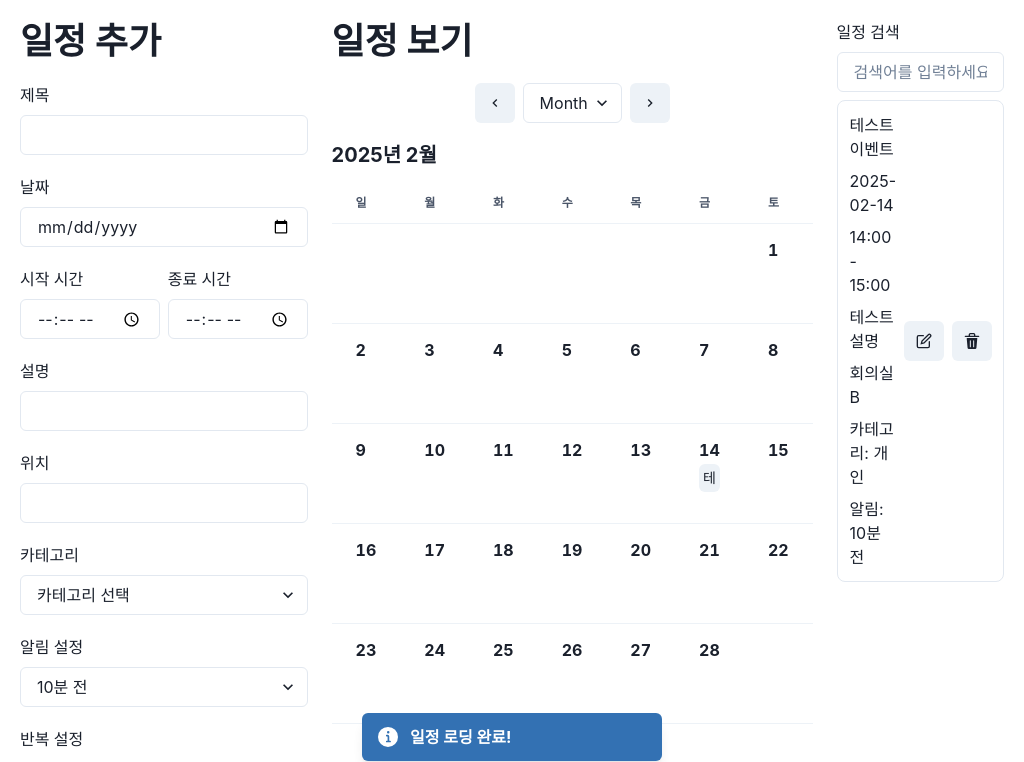
Test: 일정 CRUD 및 기본 기능 › 일정을 삭제하고 더 이상 조회되지 않는지 확인한다
Check: the element with test id "event-item-1" is shown, box [837,100,1004,582]
일정 삭제 버튼 클릭
Click the button named "Delete event".
click(972, 341)  # box [952,321,992,361]
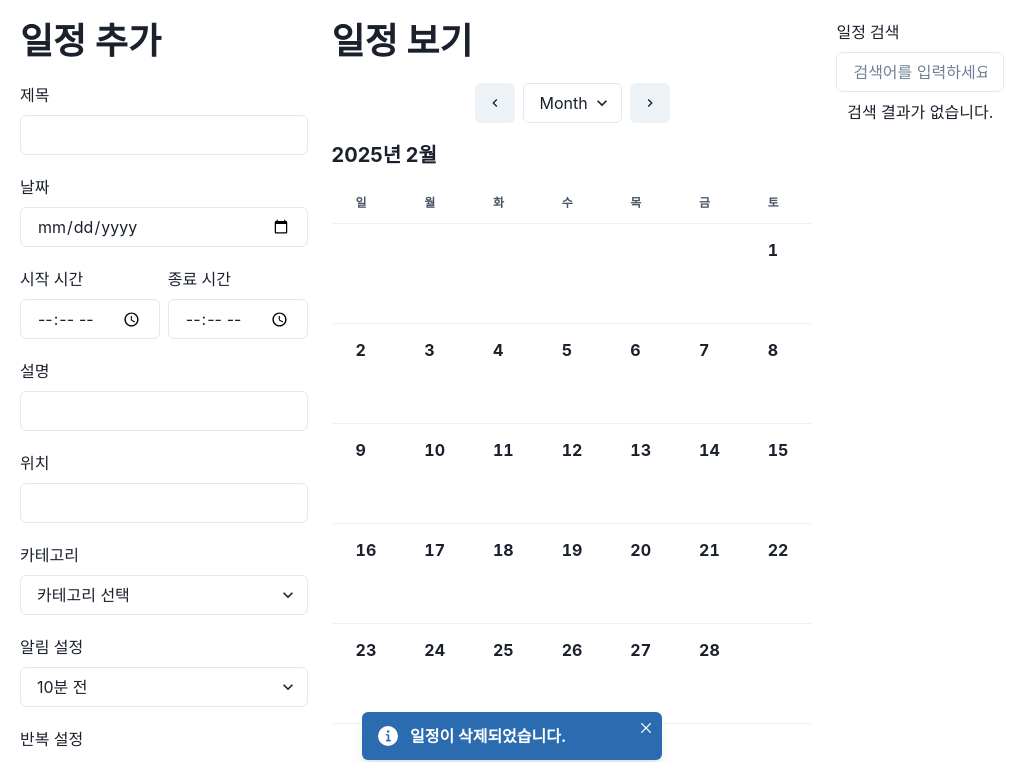
Check: the element with test id "event-list" shows "검색 결과가 없습니다.", box [847,102,993,122]
